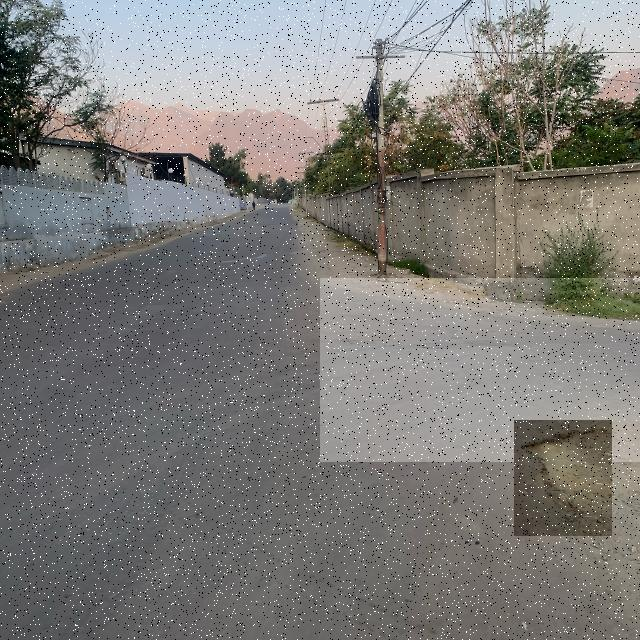damaged: (514, 420, 612, 536)
right: (320, 278, 640, 462)
